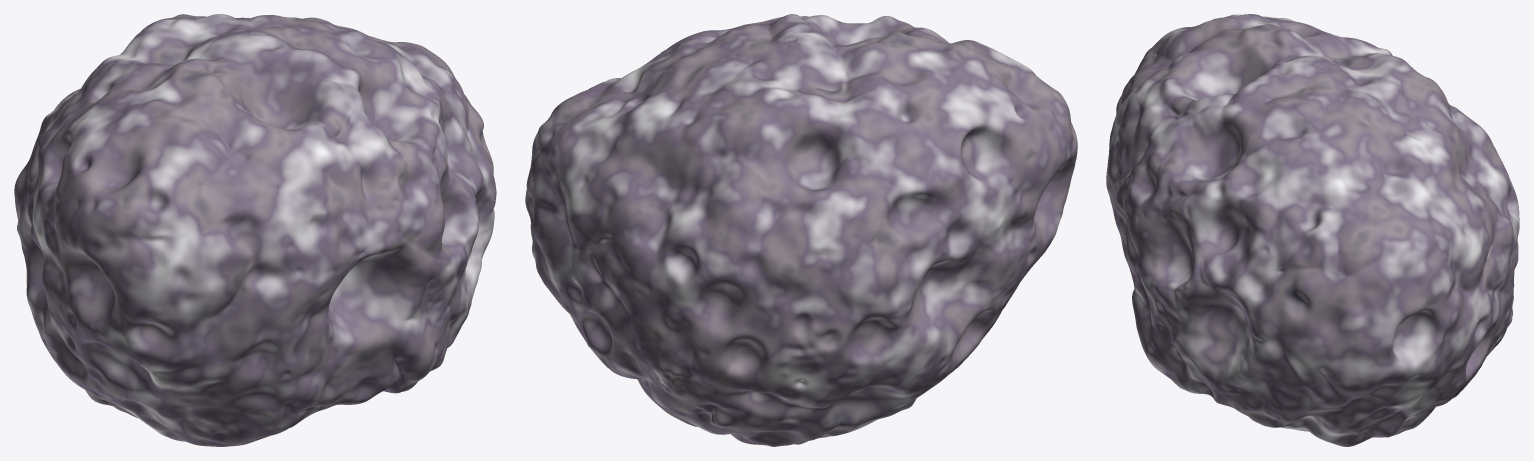
File: Asteroid1.fbx
3 renders of one model, left to right at view 1: azimuth 30°, elevation 25°; view 2: azimuth 150°, elevation 25°; view 3: azimuth 270°, elevation 25°, orthographic. The views are drawn at different scales.
Parts seen in each view (by area): view 1: Asteroid; view 2: Asteroid; view 3: Asteroid.
Part boxes in pixels (box(x1,y1,x2,y2)): Asteroid: box(14, 14, 496, 446); Asteroid: box(525, 14, 1077, 446); Asteroid: box(1106, 14, 1519, 446).
Bounding box in the file's own units: 236 × 187 × 198.
1 material, 1 textured.
